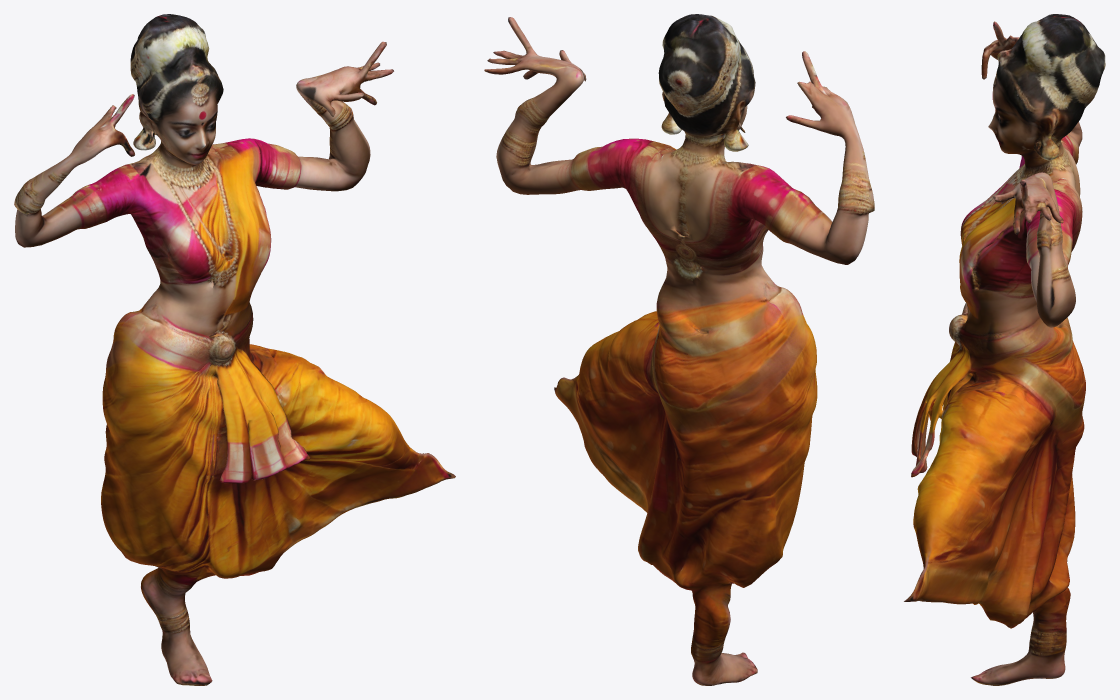
3 renders of one model, left to right at view 1: azimuth 30°, elevation 25°; view 2: azimuth 150°, elevation 25°; view 3: azimuth 270°, elevation 25°, orthographic. The views are drawn at different scales.
Bounding box in the file's own units: 1.21 × 2 × 0.5476.
1 material, 1 textured.
